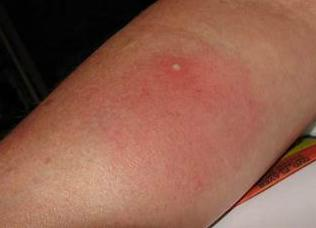Tick: (143, 33, 212, 99)
